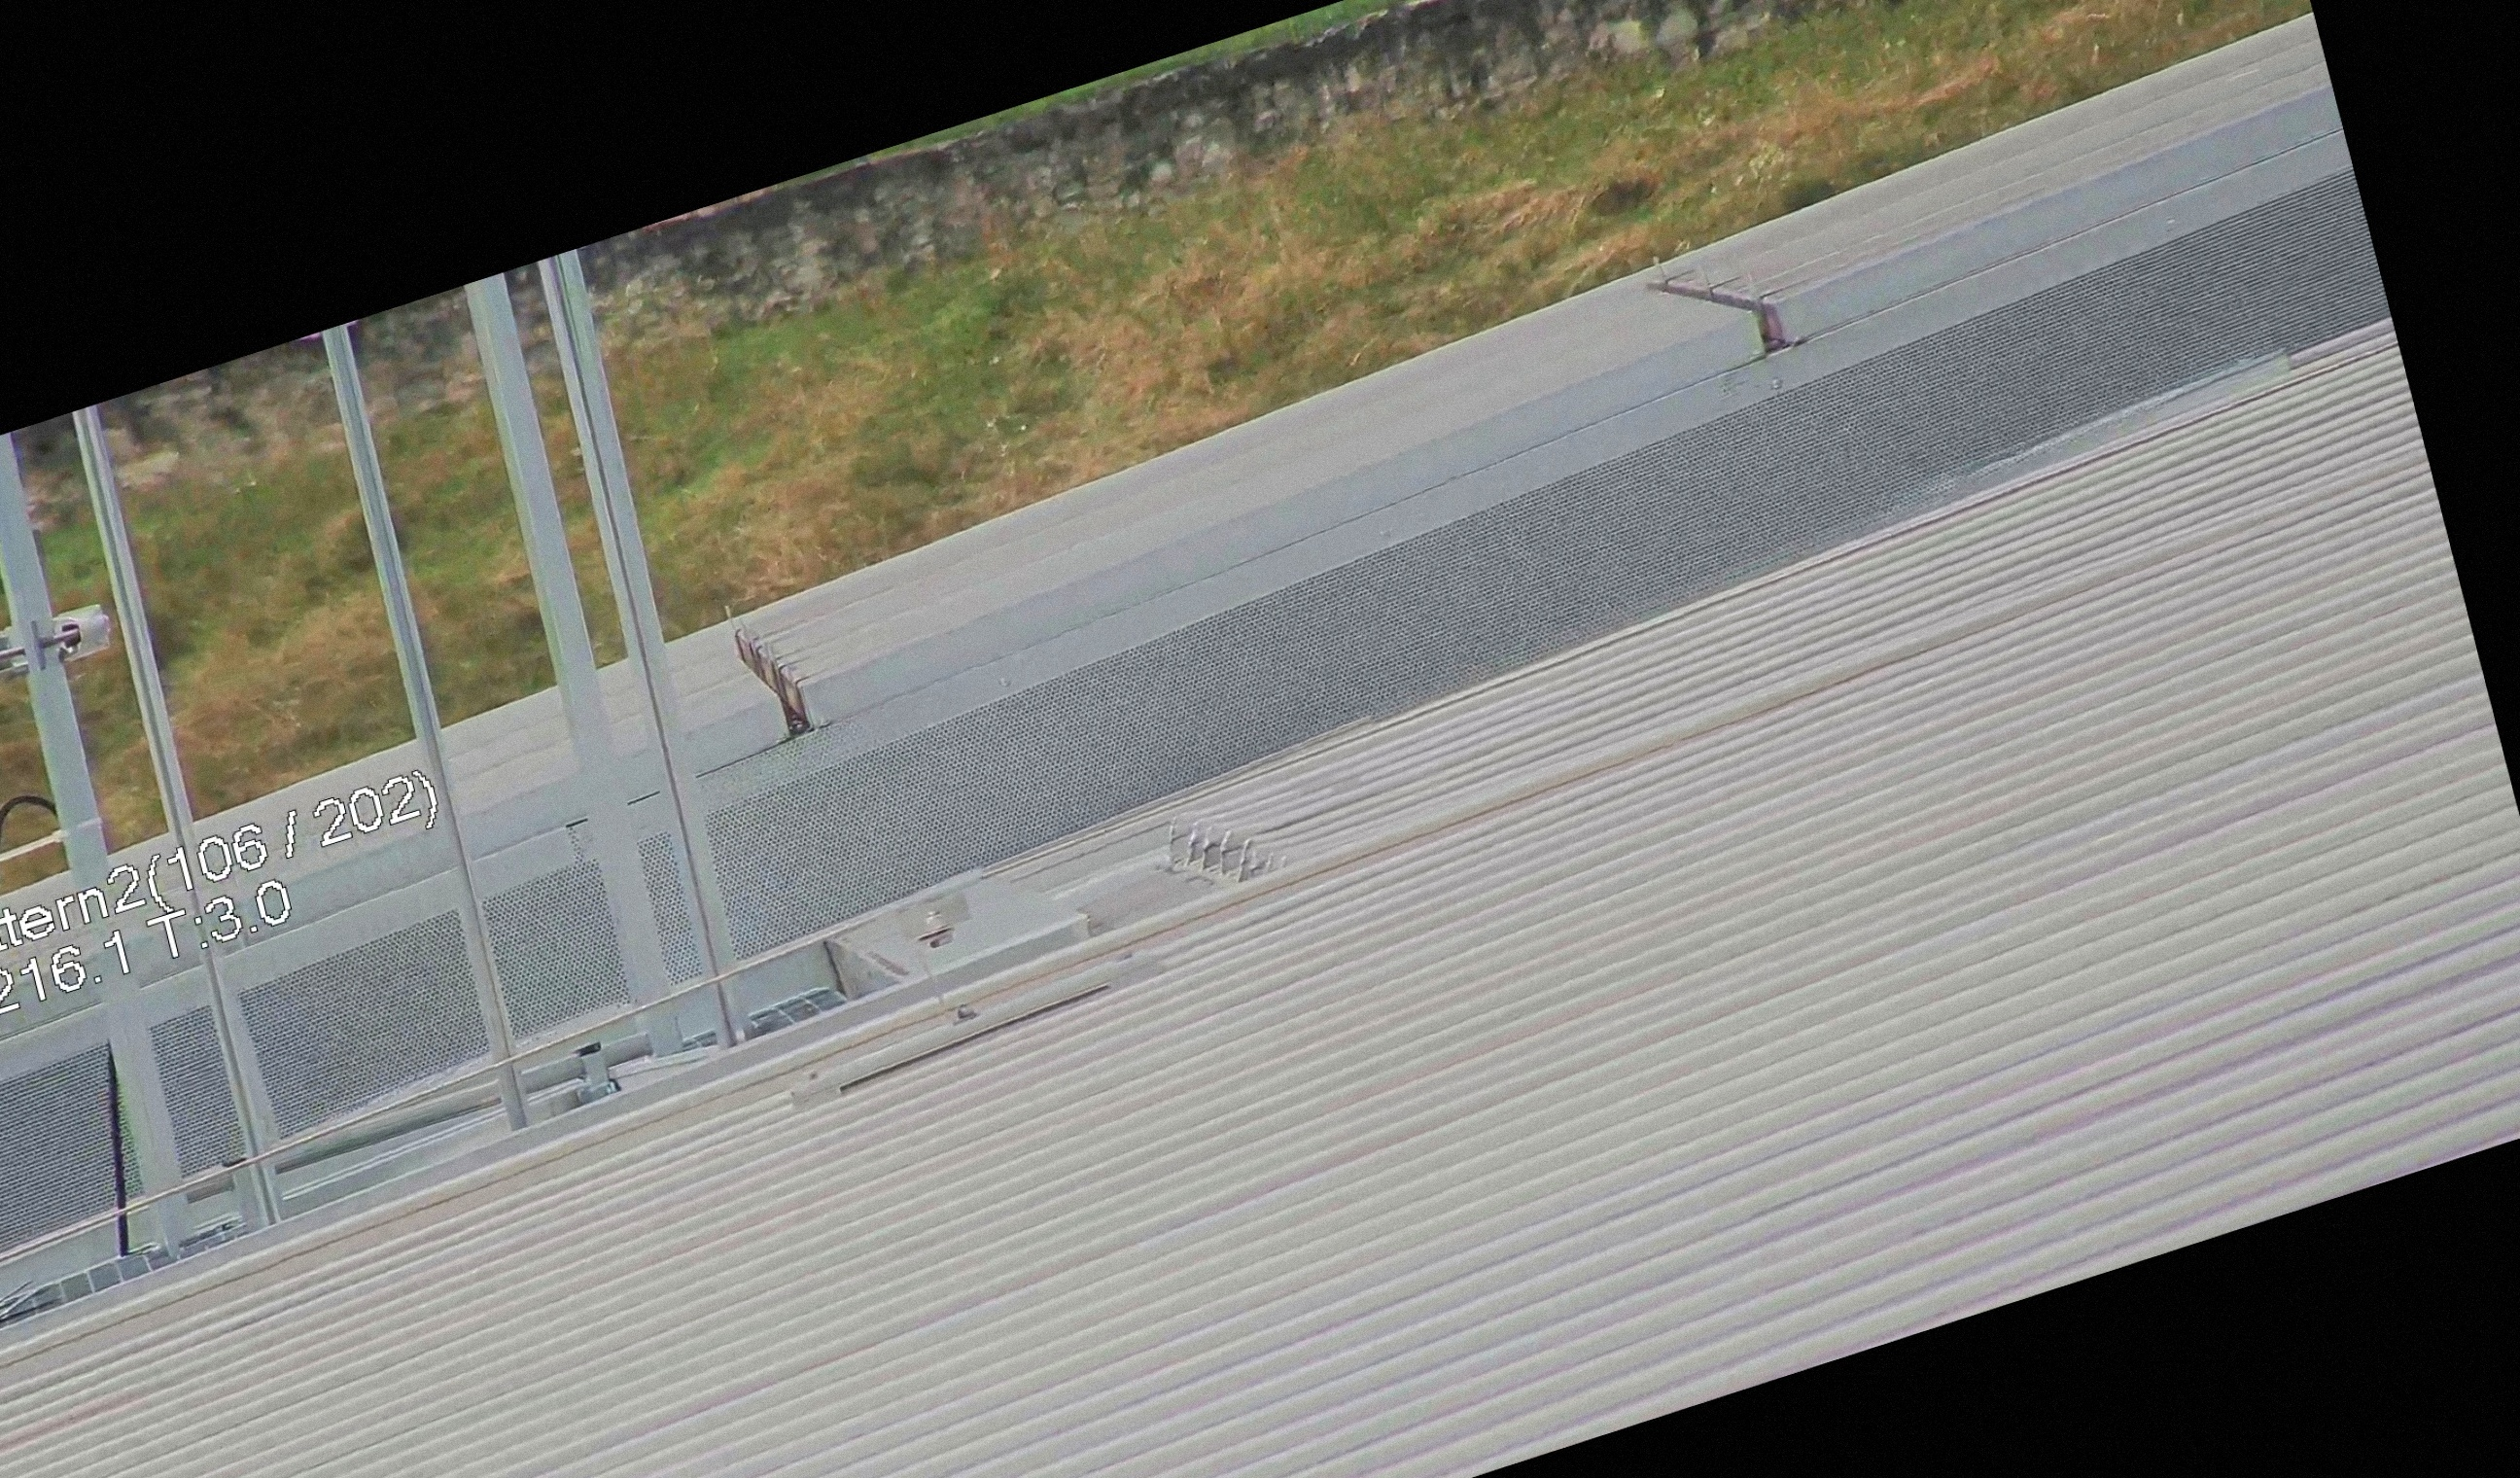Other: (705, 581, 842, 757)
